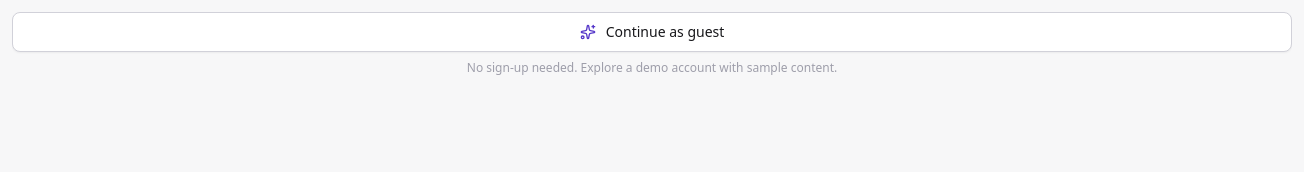
GuestButton › starts a guest session when clicked
Click the button "Continue as guest": {"x": 652, "y": 32} [12,12,1292,52]
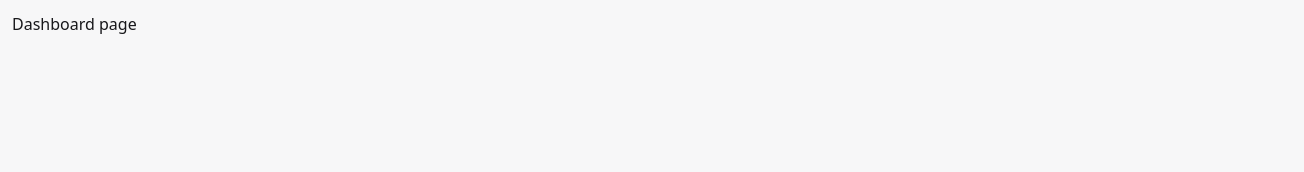
Expected: the text "Dashboard page" is shown, [12,13,137,35]
